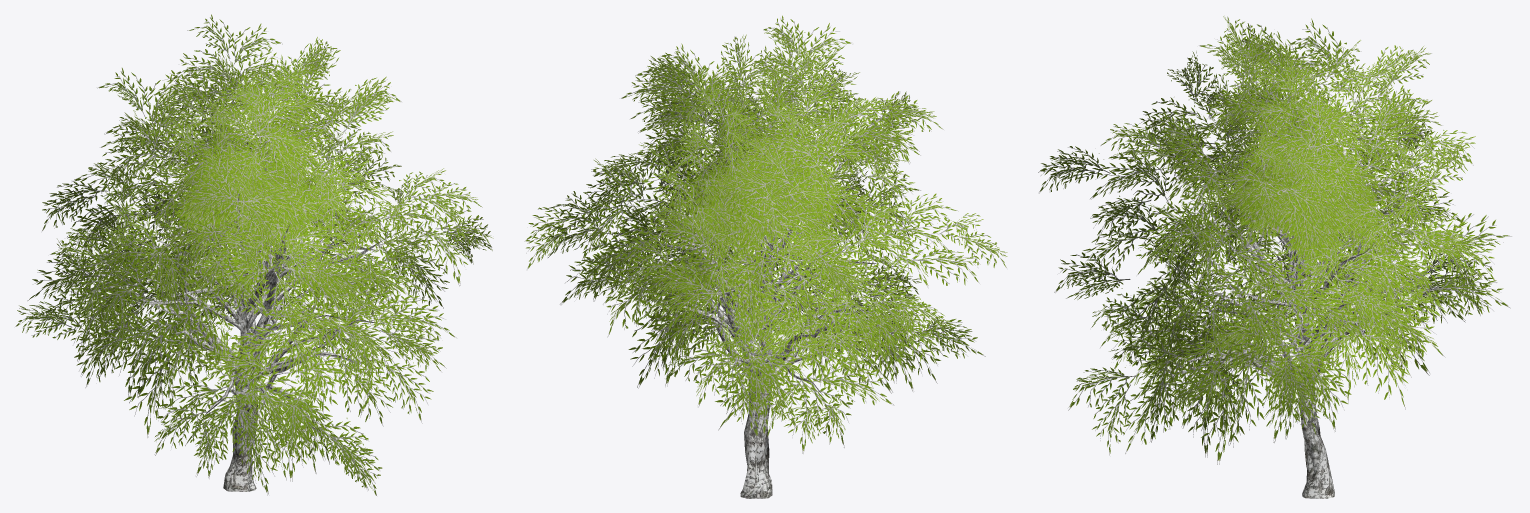
File: tree19.glb
3 views of the same model, side by side, from view 1: azimuth 30°, elevation 25°; view 2: azimuth 150°, elevation 25°; view 3: azimuth 270°, elevation 25° (orthographic). The views are drawn at different scales.
Parts seen in each view (by area): view 1: Tree19; view 2: Tree19; view 3: Tree19.
Boxes of the visible parts, x1,y1,x2,y2 form: Tree19: [15, 14, 493, 495]; Tree19: [524, 15, 1007, 498]; Tree19: [1038, 16, 1511, 498].
Bounding box in the file's own units: 7.39 × 6.93 × 6.48.
2 materials, 2 textured.
